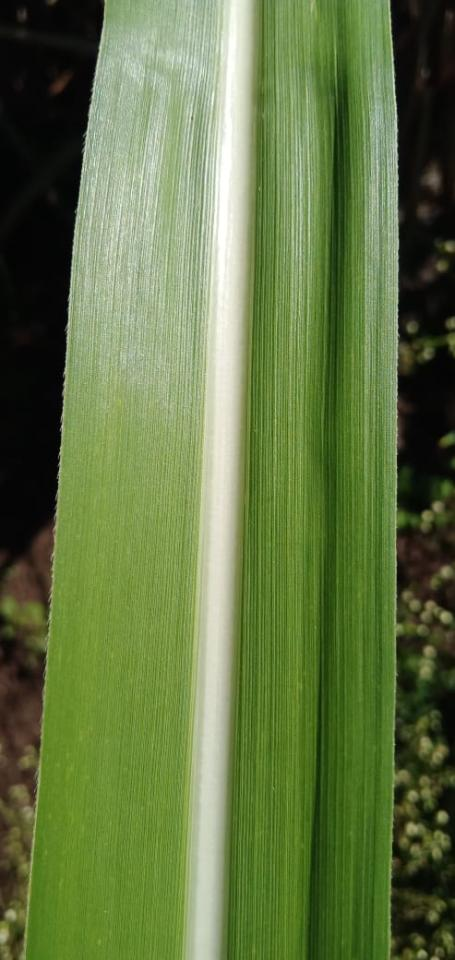Healthy: (26, 0, 397, 959)
